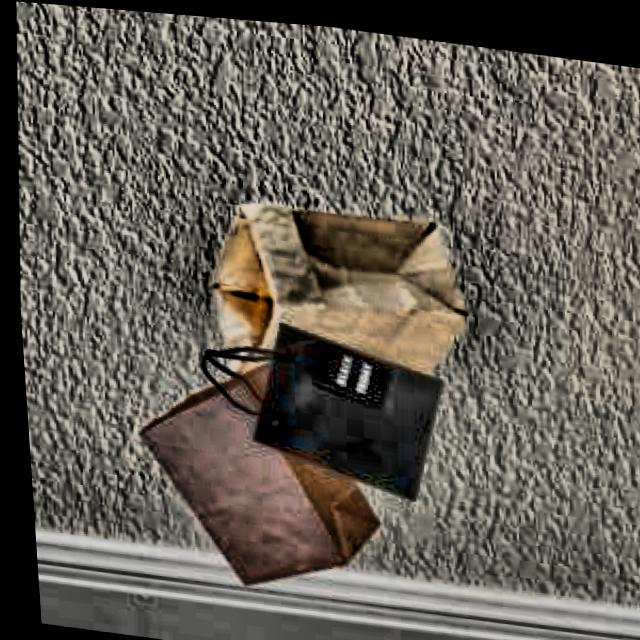Paper-bag: (175, 172, 476, 396), (135, 342, 379, 602), (172, 305, 449, 518)
